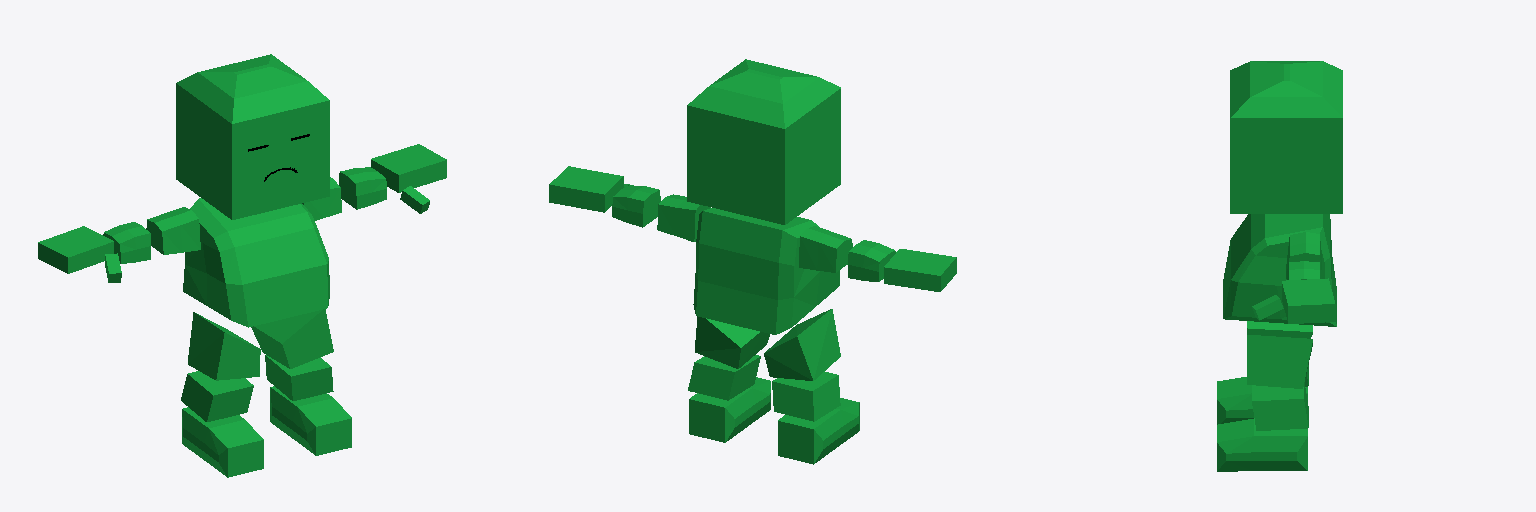
The picture shows the model from 3 angles: view 1: azimuth 30°, elevation 25°; view 2: azimuth 150°, elevation 25°; view 3: azimuth 270°, elevation 25°; orthographic projection.
Parts seen in each view (by area): view 1: Platformer.002; view 2: Platformer.002; view 3: Platformer.002.
Boxes of the visible parts, box(x1,y1,x2,y2) form: Platformer.002: box(38, 54, 446, 477); Platformer.002: box(549, 59, 956, 464); Platformer.002: box(1217, 61, 1342, 471).
Bounding box in the file's own units: 2.61 × 2.35 × 0.7313.
1 materials, 1 textured.